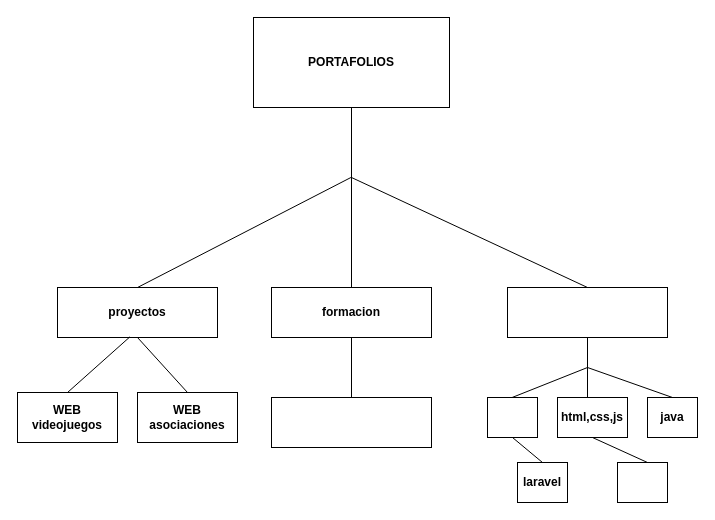
The diagram is 715 pixels wide and 520 high, and some of its shapes have lost their labels. Each missing label, with the centre of its shape:
angular: the point at 642,482
grado superior DAW: the point at 351,422
php: the point at 512,417
tecnologias: the point at 587,312
